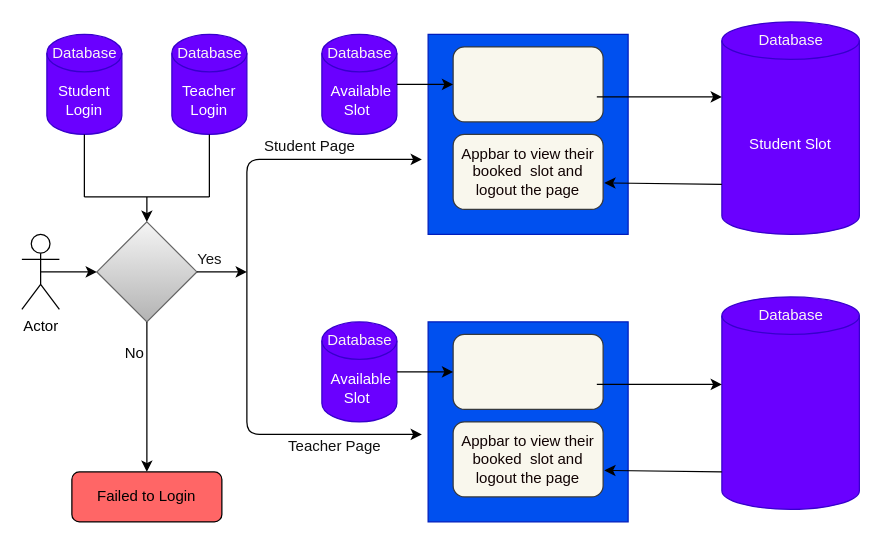
Some shapes in this 881 by 544 pixel diagram are drawn without their labels. Here are the shapes that lost their labels. From the top down, the centre of each, then its label:
pixel 527 84: Student page to book their slot , edit their slot
pixel 146 271: login success
pixel 527 371: Teacher's page to book their slot , edit their slot
pixel 790 402: Teacher Slot
